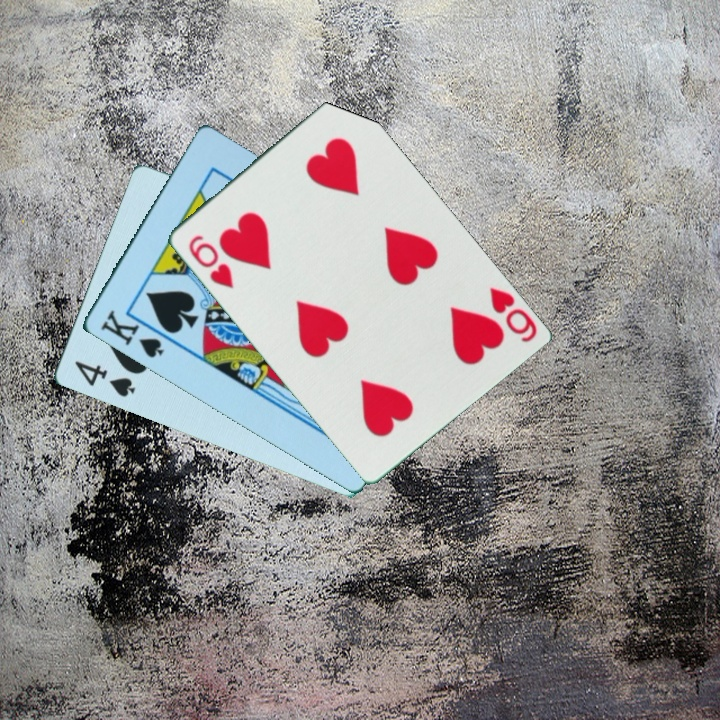4s: (70, 357, 138, 401)
6h: (485, 283, 540, 346), (184, 231, 237, 292)
Ks: (96, 306, 166, 362)
